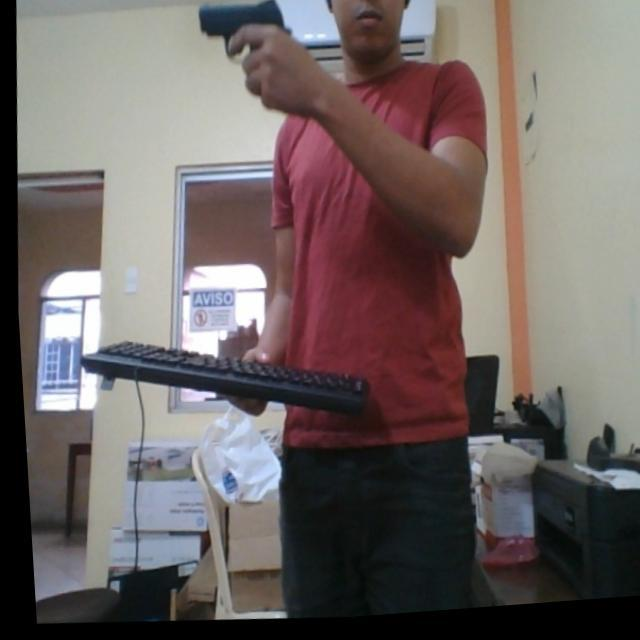weapon: (191, 0, 296, 71)
